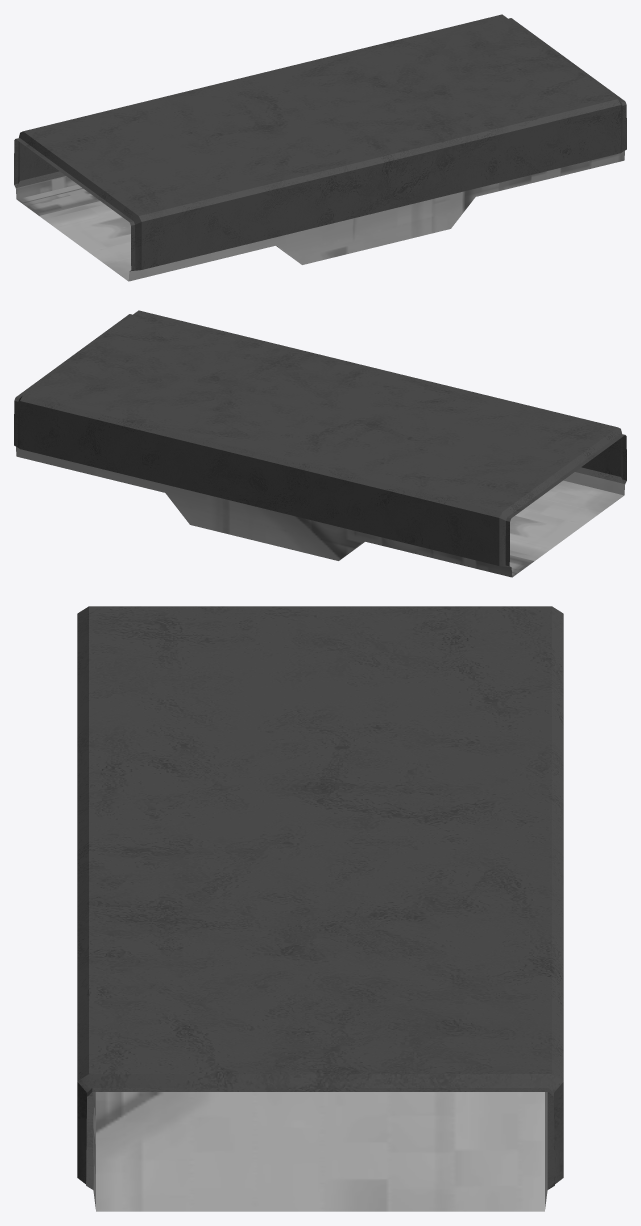
File: top_holder_pipe.fbx
3 views of the same model, one above another, from view 1: azimuth 30°, elevation 25°; view 2: azimuth 150°, elevation 25°; view 3: azimuth 270°, elevation 25° (orthographic). The views are drawn at different scales.
Parts seen in each view (by area): view 1: top_holder_pipe; view 2: top_holder_pipe; view 3: top_holder_pipe.
Part boxes in pixels (x1,y1,x2,y2): top_holder_pipe: (14, 14, 626, 281); top_holder_pipe: (14, 310, 626, 577); top_holder_pipe: (77, 606, 563, 1211).
Size of the model in its own units: 400 by 70 by 170.
